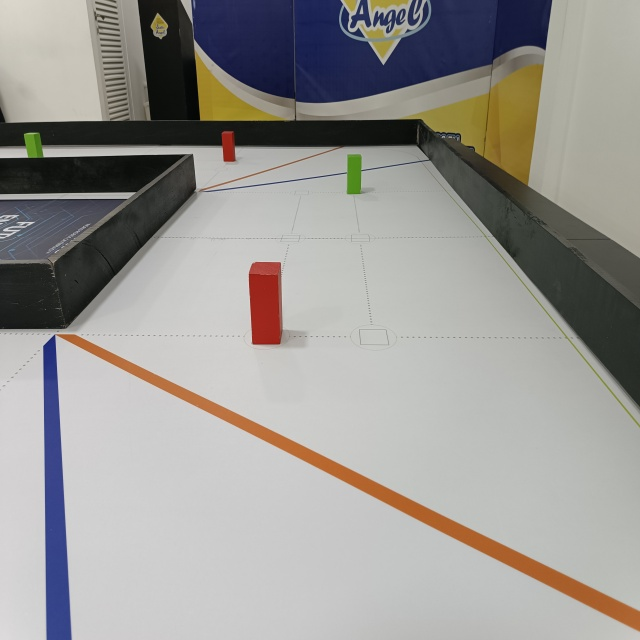blue line: (39, 338, 77, 640), (198, 155, 431, 196)
green rectangular prism: (18, 132, 50, 160), (344, 154, 365, 194)
orange line: (55, 332, 640, 635), (196, 145, 347, 192)
red rectangular prism: (248, 261, 284, 349), (220, 132, 237, 164)
